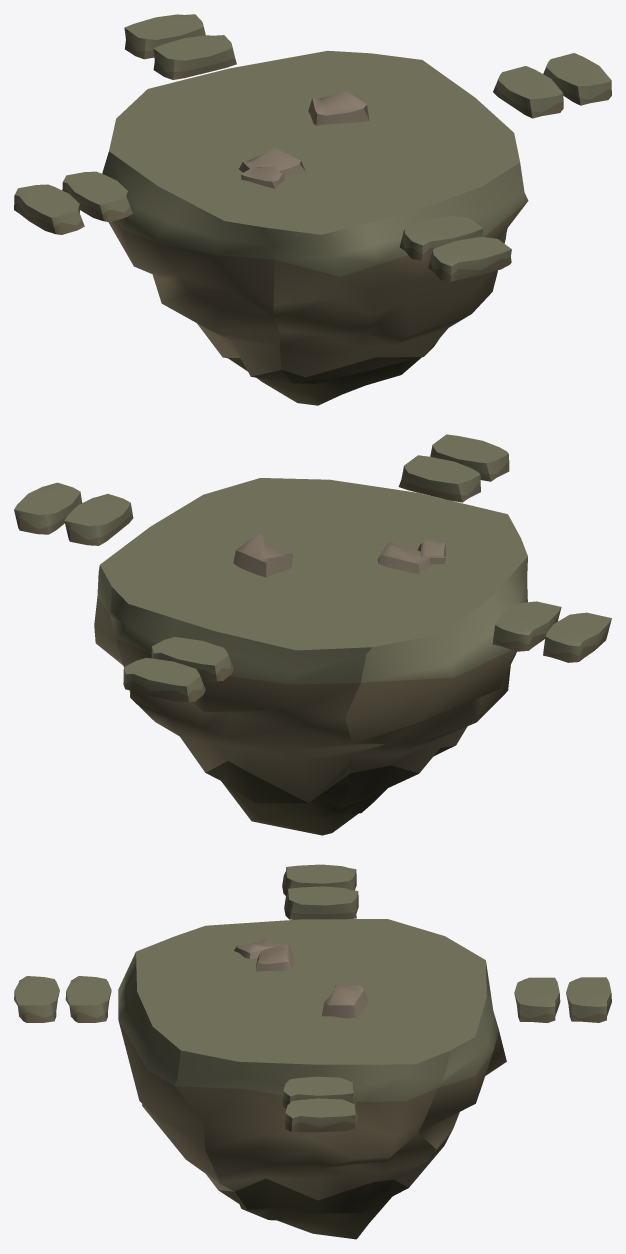
The model's file is Crystal land.fbx.
3 renders of one model, top to bottom at view 1: azimuth 30°, elevation 25°; view 2: azimuth 150°, elevation 25°; view 3: azimuth 270°, elevation 25°, orthographic. The views are drawn at different scales.
Visible parts, largest first — view 1: polySurface4, land___highlight:pasted__pCube1, land___highlight:pasted__pasted__pasted__pCube1, land___highlight:pasted__pasted__pasted__pCube3, land___highlight:pasted__pCube2, pasted__pasted__pCube1, pCube1, pasted__pCube1; view 2: polySurface4, land___highlight:pasted__pasted__pasted__pCube3, land___highlight:pasted__pCube1, land___highlight:pasted__pCube2, land___highlight:pasted__pasted__pasted__pCube1, pasted__pasted__pCube1, pCube1, pasted__pCube1; view 3: polySurface4, land___highlight:pasted__pasted__pasted__pCube1, land___highlight:pasted__pasted__pasted__pCube3, land___highlight:pasted__pCube1, land___highlight:pasted__pCube2, pasted__pasted__pCube1, pCube1.
Boxes of the visible parts, box(x1,y1,x2,y2) form: polySurface4: box(102, 50, 528, 405); land___highlight:pasted__pCube1: box(124, 14, 236, 79); land___highlight:pasted__pasted__pasted__pCube1: box(14, 171, 132, 234); land___highlight:pasted__pasted__pasted__pCube3: box(493, 53, 611, 118); land___highlight:pasted__pCube2: box(400, 216, 511, 281); pasted__pasted__pCube1: box(308, 91, 369, 125); pCube1: box(239, 148, 305, 176); pasted__pCube1: box(241, 166, 284, 188); polySurface4: box(94, 478, 527, 835); land___highlight:pasted__pasted__pasted__pCube3: box(14, 482, 133, 545); land___highlight:pasted__pCube1: box(123, 637, 233, 702); land___highlight:pasted__pCube2: box(398, 434, 509, 502); land___highlight:pasted__pasted__pasted__pCube1: box(492, 601, 611, 662); pasted__pasted__pCube1: box(233, 533, 292, 577); pCube1: box(378, 542, 433, 573); pasted__pCube1: box(417, 540, 446, 564); polySurface4: box(118, 919, 506, 1239); land___highlight:pasted__pasted__pasted__pCube1: box(282, 864, 358, 919); land___highlight:pasted__pasted__pasted__pCube3: box(283, 1076, 359, 1131); land___highlight:pasted__pCube1: box(514, 977, 611, 1022); land___highlight:pasted__pCube2: box(14, 976, 111, 1022); pasted__pasted__pCube1: box(322, 985, 367, 1018); pCube1: box(256, 943, 293, 971).
Size of the model in its own units: 8.93 by 4.38 by 8.89.
